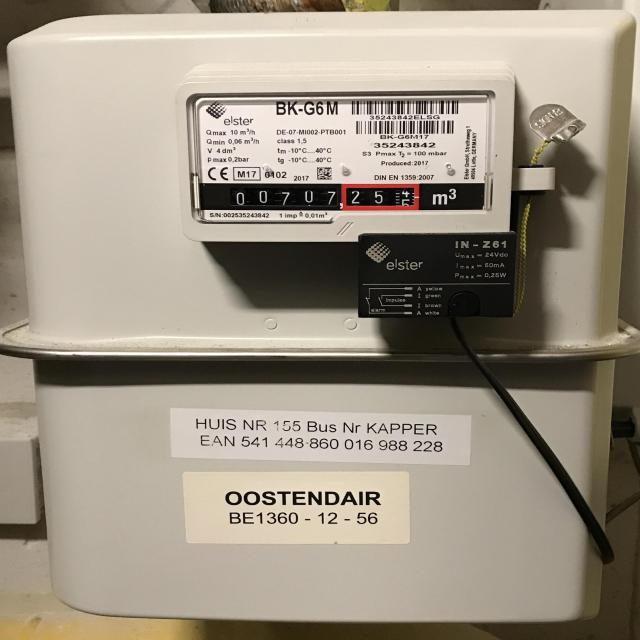gaz_meter: (186, 89, 502, 212)
indication: (225, 188, 418, 211)
